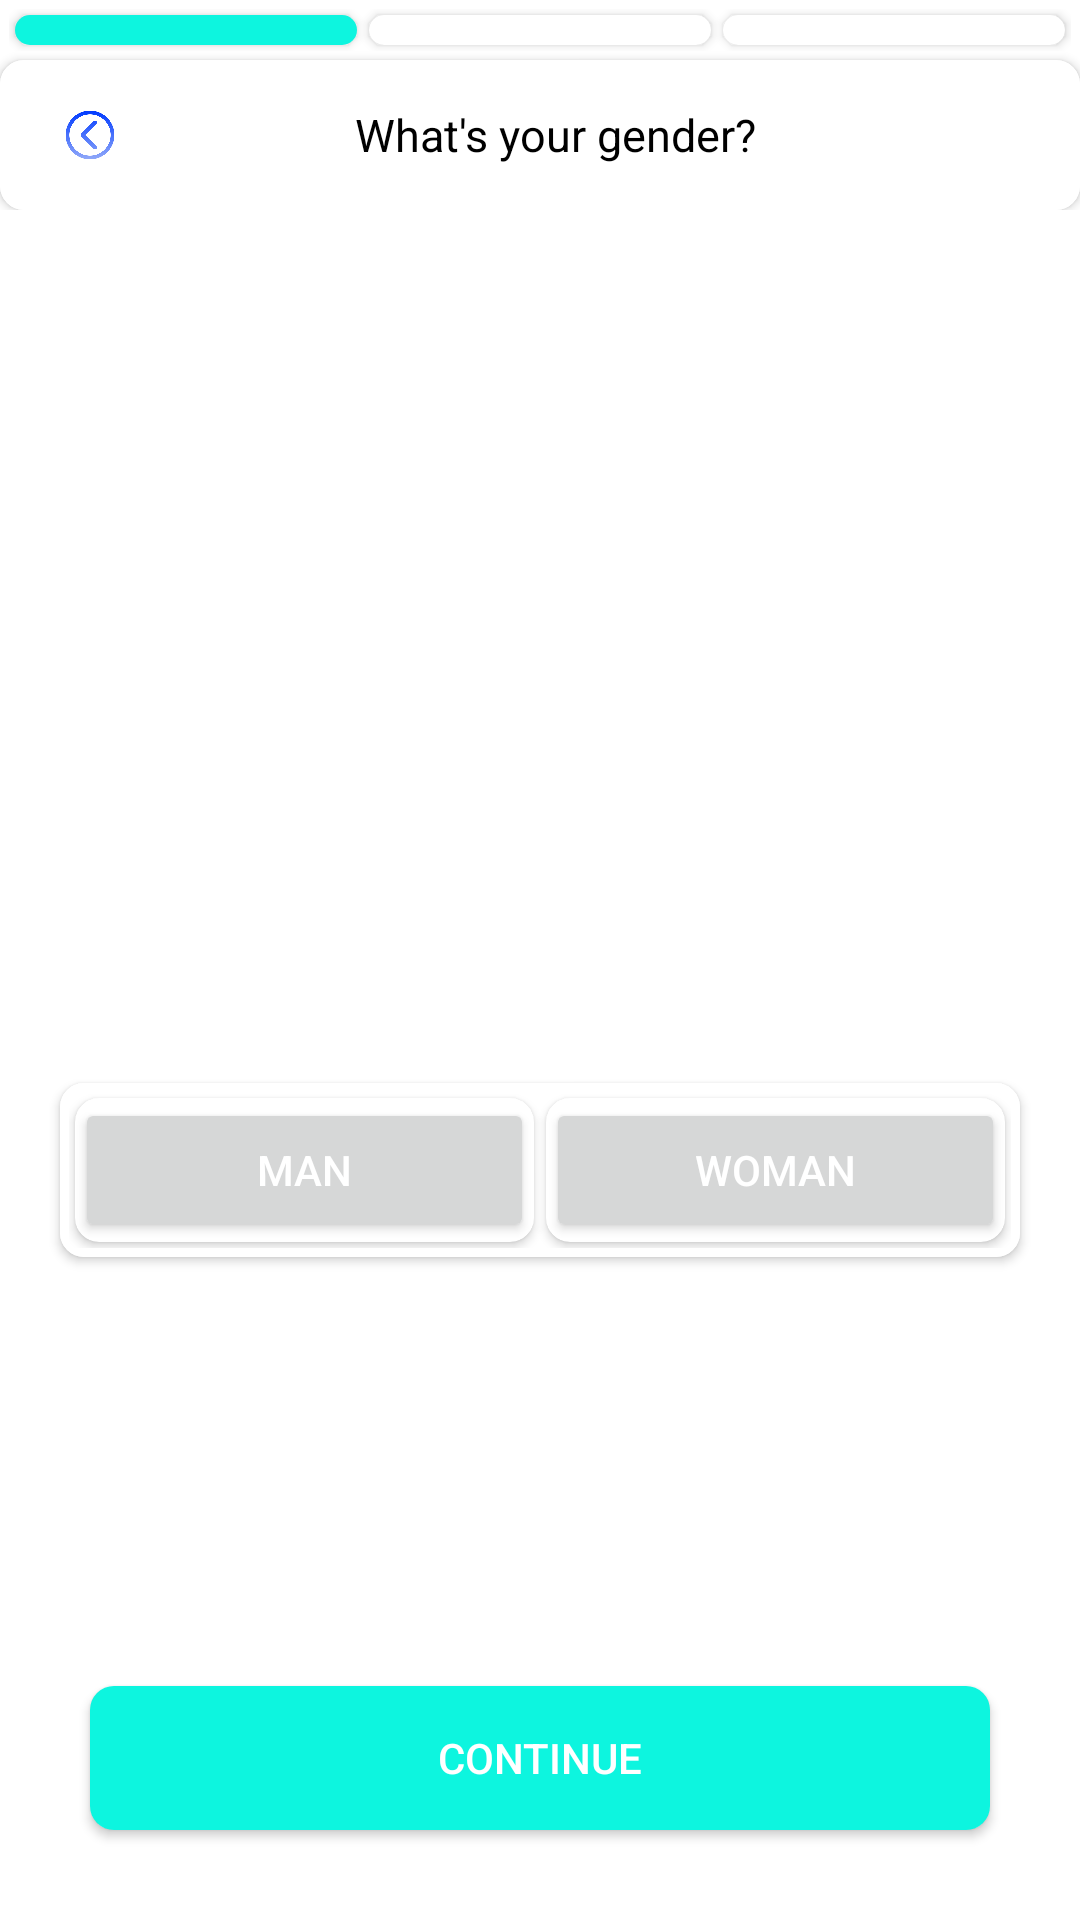

Icons on this 1080 x 1920 Android screen, each with the point to tap as [x,y]:
back: [90,135]
